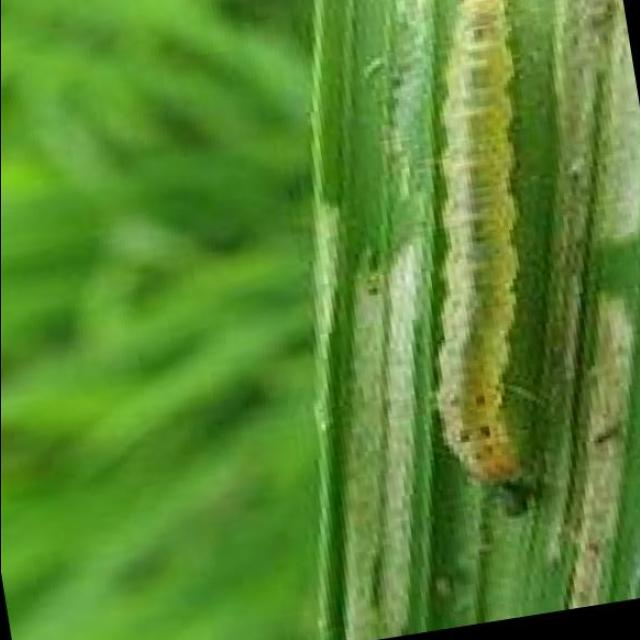leaf folder: (437, 0, 519, 485)
